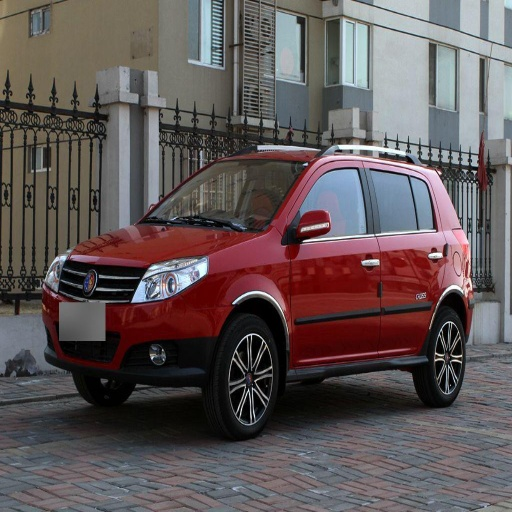front_bumper: (42, 260, 229, 386)
front_glass: (139, 159, 303, 231)
front_left_door: (289, 161, 381, 359)
